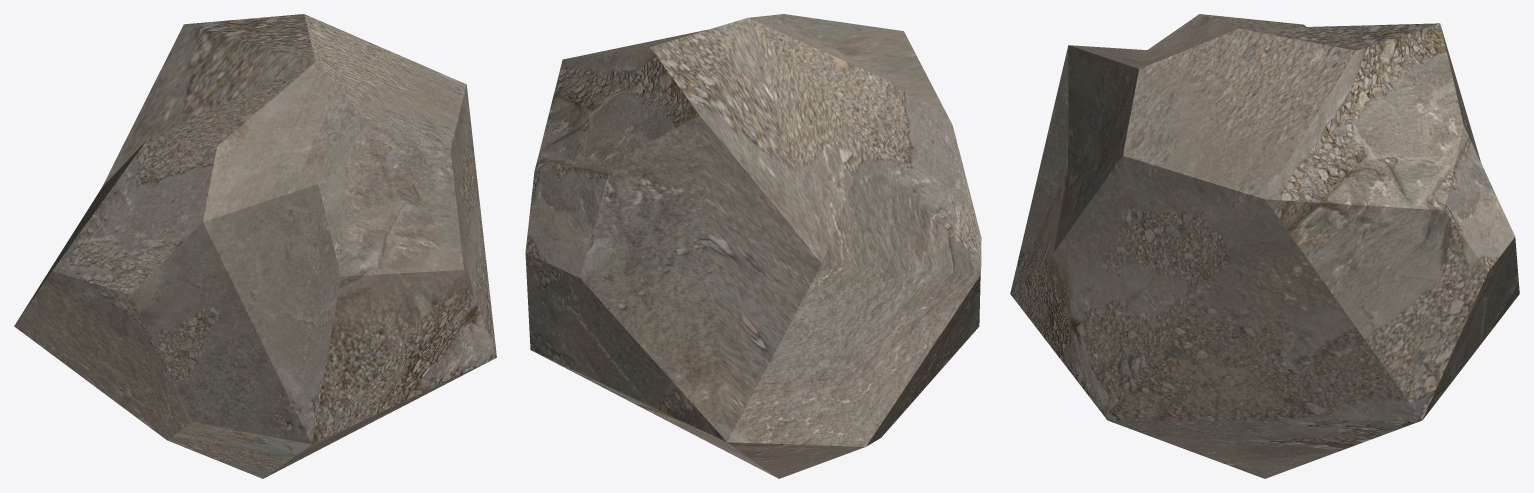
The model's file is meteor_s.fbx.
3 renders of one model, left to right at view 1: azimuth 30°, elevation 25°; view 2: azimuth 150°, elevation 25°; view 3: azimuth 270°, elevation 25°, orthographic. The views are drawn at different scales.
Visible parts, largest first — view 1: meteor_s; view 2: meteor_s; view 3: meteor_s.
Part boxes in pixels (x1,y1,x2,y2): meteor_s: [14, 14, 496, 478]; meteor_s: [525, 14, 981, 478]; meteor_s: [1010, 14, 1519, 478].
Size of the model in its own units: 106 by 105 by 102.
1 material, 1 textured.
